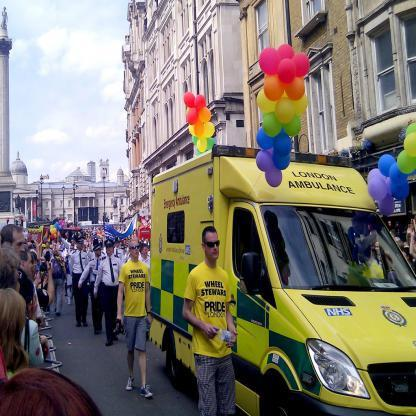Ambulance - v1 Ambulance last generate: (145, 144, 414, 416)
